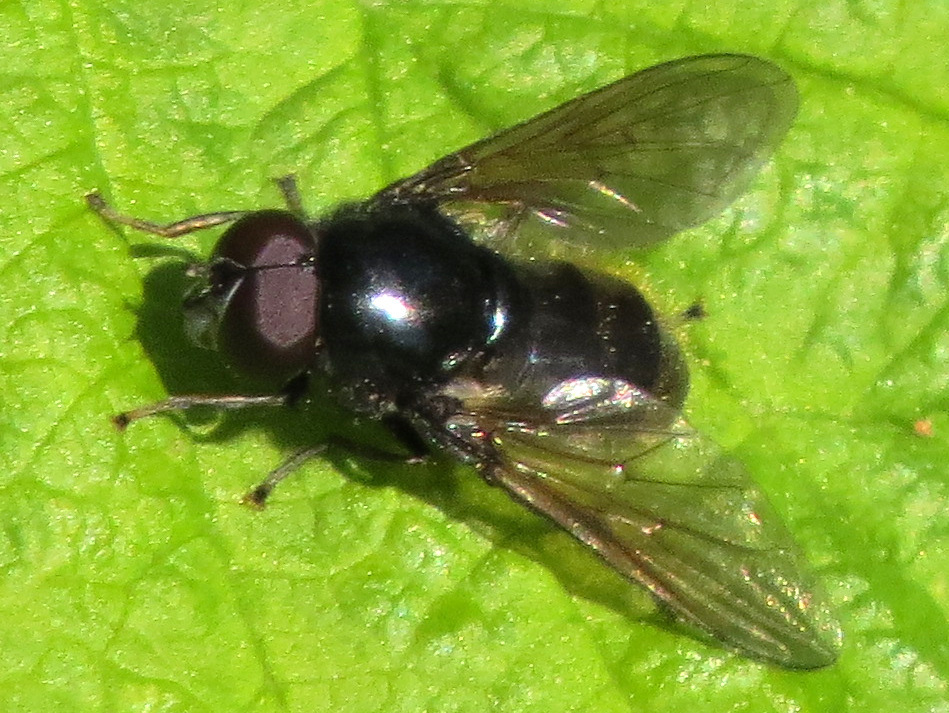not_bumblebee: (85, 51, 846, 674)
